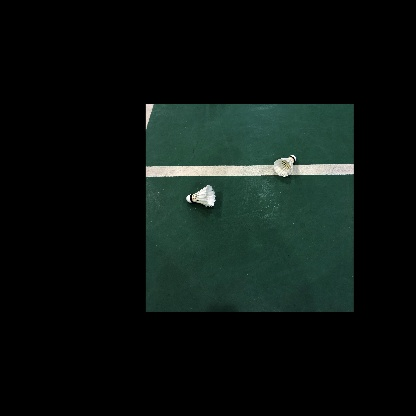ball_single: (186, 185, 216, 207), (273, 155, 296, 177)
